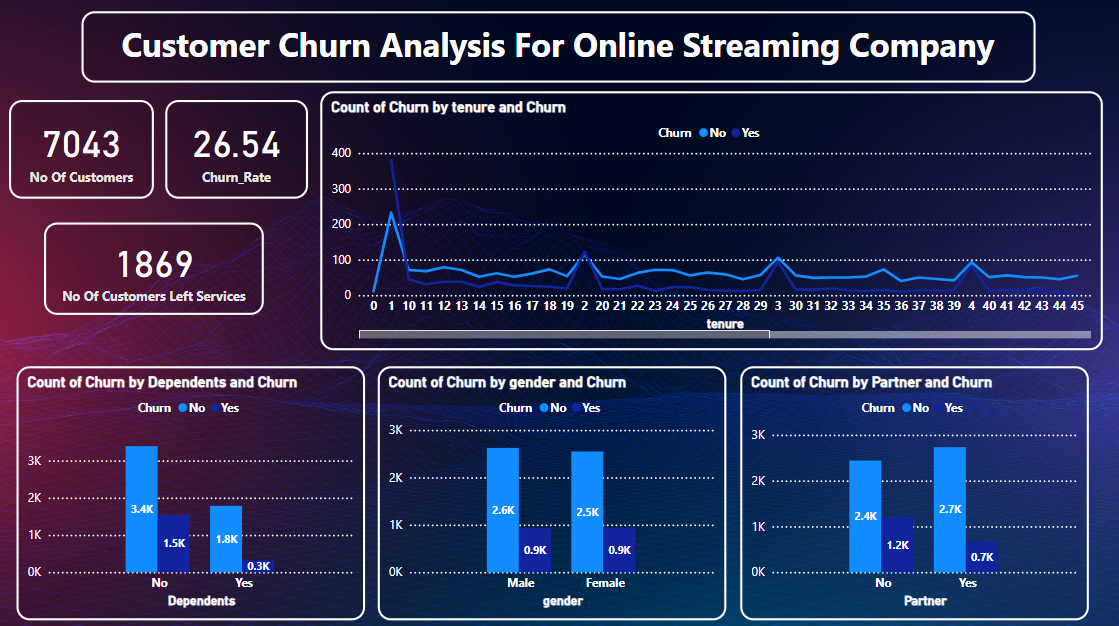

The dashboard page shown, as its layout file describes it:
{"tool":"powerbi","page":{"name":"Page 1","canvas":[1280,720],"ordinal":0},"visuals":[{"type":"textbox","box":[94.3,12.9,1090,81.4],"z":0},{"type":"card","fields":{"Values":["CountNonNull(Cutomer_churn_analysis.Customer ID)"]},"box":[11.4,114.3,165.7,112.9],"z":1000},{"type":"card","fields":{"Values":["CountNonNull(Cutomer_churn_analysis.Churn)"]},"box":[51.4,254.3,251.4,105.7],"z":2000},{"type":"card","fields":{"Values":["Cutomer_churn_analysis.Churn_Rate"]},"box":[190,114.3,162.9,112.9],"z":3000},{"type":"clusteredColumnChart","fields":{"Category":["Cutomer_churn_analysis.Dependents"],"Y":["CountNonNull(Cutomer_churn_analysis.Churn)"],"Series":["Cutomer_churn_analysis.Churn"]},"box":[20,418,398.6,290],"z":4000},{"type":"clusteredColumnChart","fields":{"Y":["CountNonNull(Cutomer_churn_analysis.Churn)"],"Series":["Cutomer_churn_analysis.Churn"],"Category":["Cutomer_churn_analysis.gender"]},"box":[432.9,418,398.6,290],"z":5000},{"type":"clusteredColumnChart","fields":{"Y":["CountNonNull(Cutomer_churn_analysis.Churn)"],"Series":["Cutomer_churn_analysis.Churn"],"Category":["Cutomer_churn_analysis.Partner"]},"box":[847.2,418,398.6,290],"z":6000},{"type":"lineChart","fields":{"Category":["Cutomer_churn_analysis.tenure"],"Y":["CountNonNull(Cutomer_churn_analysis.Churn)"],"Series":["Cutomer_churn_analysis.Churn"]},"box":[367.1,104.3,894.3,295.7],"z":7000}]}

Visuals, with their boxes in screenshot pixels (x1, y1, x2, y2), scaled from the page's 1280x720 canvas onto the 1119x626 screenshot:
textbox: bbox(82, 11, 1035, 82)
card - CountNonNull(Cutomer_churn_analysis.Customer ID): bbox(10, 99, 155, 198)
card - CountNonNull(Cutomer_churn_analysis.Churn): bbox(45, 221, 265, 313)
card - Cutomer_churn_analysis.Churn_Rate: bbox(166, 99, 309, 198)
clusteredColumnChart - Cutomer_churn_analysis.Dependents x CountNonNull(Cutomer_churn_analysis.Churn): bbox(17, 363, 366, 616)
clusteredColumnChart - CountNonNull(Cutomer_churn_analysis.Churn) x Cutomer_churn_analysis.Churn: bbox(378, 363, 727, 616)
clusteredColumnChart - CountNonNull(Cutomer_churn_analysis.Churn) x Cutomer_churn_analysis.Churn: bbox(741, 363, 1089, 616)
lineChart - Cutomer_churn_analysis.tenure x CountNonNull(Cutomer_churn_analysis.Churn): bbox(321, 91, 1103, 348)
